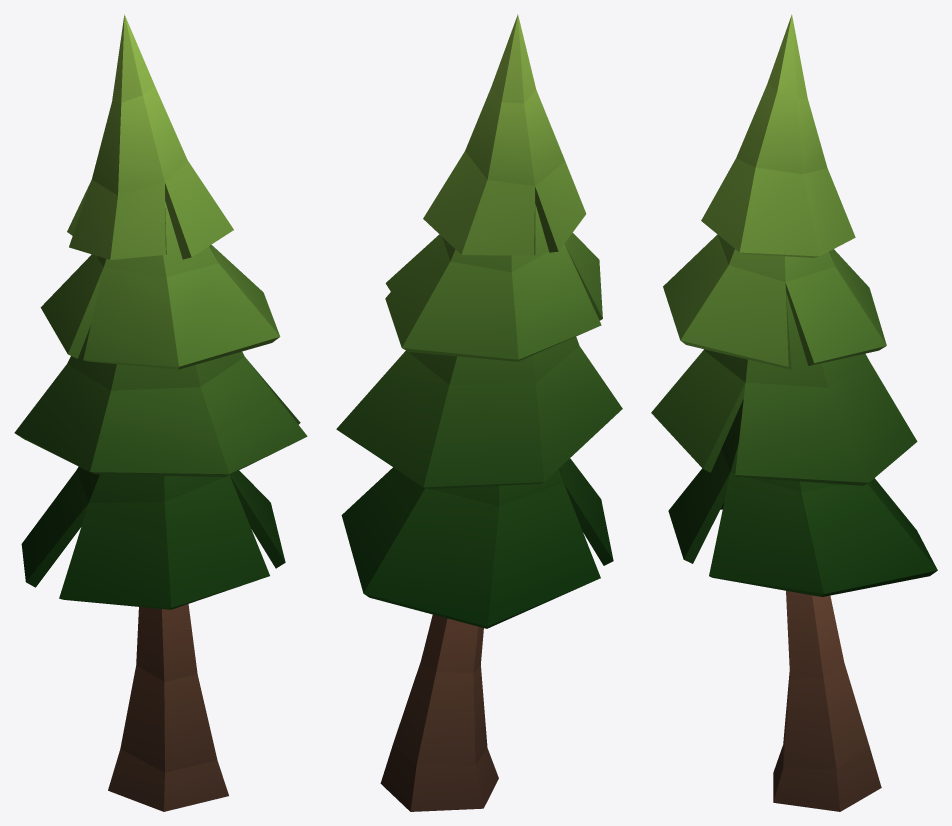
The model's file is tree_small.glb.
3 views of the same model, side by side, from view 1: azimuth 30°, elevation 25°; view 2: azimuth 150°, elevation 25°; view 3: azimuth 270°, elevation 25° (orthographic). The views are drawn at different scales.
Parts seen in each view (by area): view 1: tree_small; view 2: tree_small; view 3: tree_small.
Boxes of the visible parts, x1=… form: tree_small: x1=14, y1=14, x2=307, y2=811; tree_small: x1=336, y1=14, x2=622, y2=811; tree_small: x1=651, y1=14, x2=937, y2=811.
Size of the model in its own units: 3.22 by 9.6 by 3.35.
2 materials, 2 textured.
